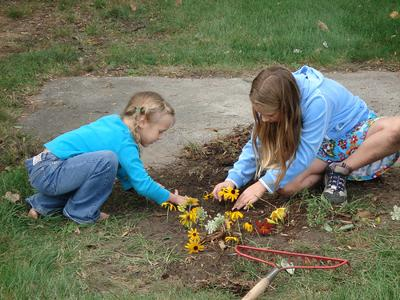person: (211, 64, 400, 211)
